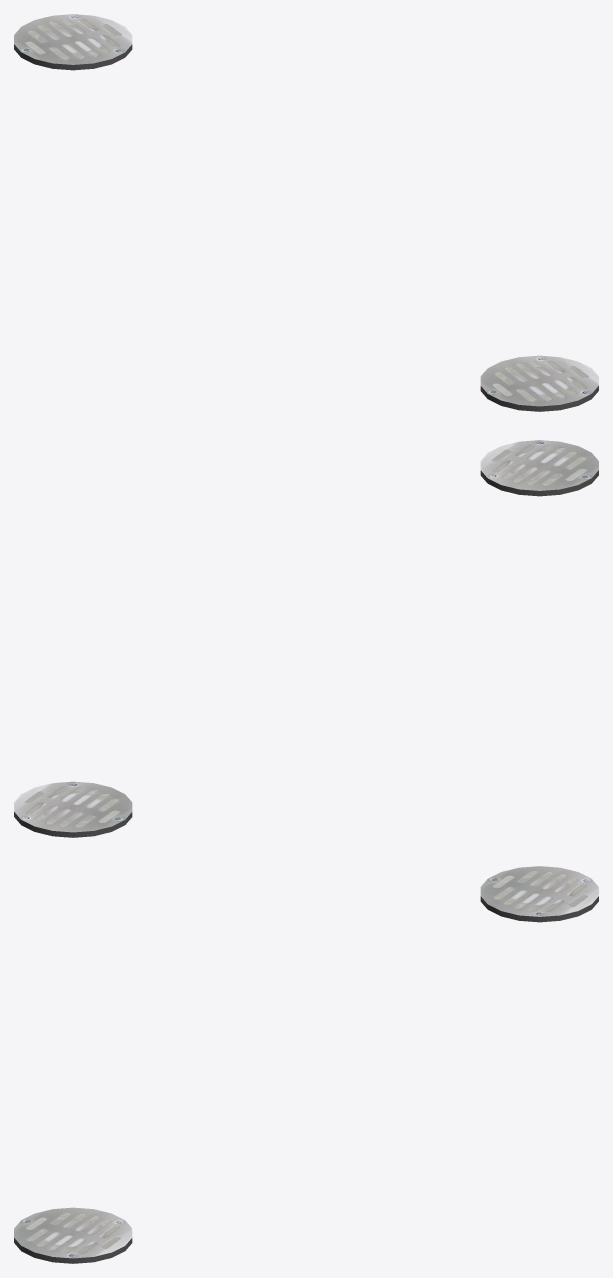
Rendered from SM_coladeras.fbx.
3 views of the same model, one above another, from view 1: azimuth 30°, elevation 25°; view 2: azimuth 150°, elevation 25°; view 3: azimuth 330°, elevation 25° (orthographic).
Parts seen in each view (by area): view 1: SM_coladeras; view 2: SM_coladeras; view 3: SM_coladeras.
Boxes of the visible parts, <box> form: SM_coladeras: <box>14,14,598,411</box>; SM_coladeras: <box>14,440,598,837</box>; SM_coladeras: <box>14,866,598,1263</box>.
Bounding box in the file's own units: 100 × 4.97 × 876.
Materials: 2 (1 with a texture image).
